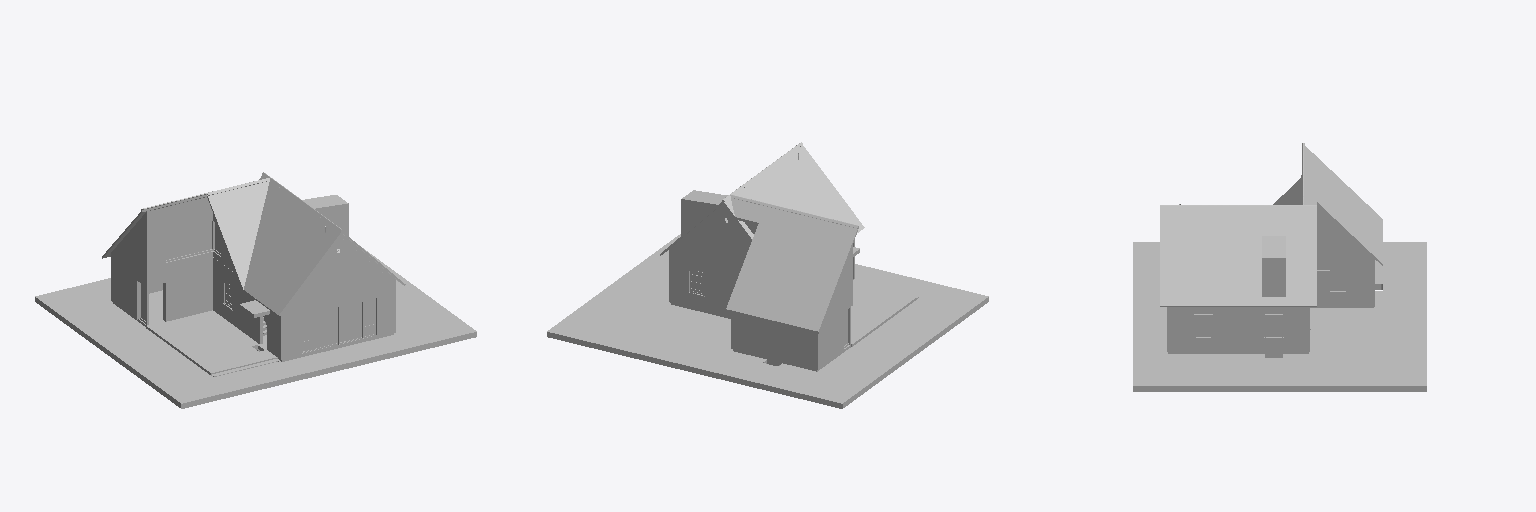
Rendered from Cabin2022b.obj.
3 views of the same model, side by side, from view 1: azimuth 30°, elevation 25°; view 2: azimuth 150°, elevation 25°; view 3: azimuth 270°, elevation 25° (orthographic).
Visible parts, largest first — view 1: UNITY_Bois_Blanc_Horizontal_Existant_2, UNITY_Gazon_Desature_Chemin_Pale, UNITY_Taule_4"_90deg, UNITY_Plancher_Bois_Gris_90deg, UNITY_Gris_Terre, Glass, UNITY_Blanc, Aluminex_Glass, UNITY_Aluminex_Frame, UNITY_Gris, UNITY_Crete; view 2: UNITY_Gazon_Desature_Chemin_Pale, UNITY_Taule_4"_90deg, UNITY_Bois_Blanc_Horizontal_Existant_2, UNITY_Gris_Terre, UNITY_Plancher_Bois_Gris_90deg, UNITY_Blanc, UNITY_Crete, UNITY_Gris; view 3: UNITY_Gazon_Desature_Chemin_Pale, UNITY_Taule_4"_90deg, UNITY_Bois_Blanc_Horizontal_Existant_2, UNITY_Blanc, UNITY_Gris_Terre, Glass, UNITY_Crete, UNITY_Aluminex_Frame.
Boxes of the visible parts, x1,y1,x2,y2 form: UNITY_Bois_Blanc_Horizontal_Existant_2: [111, 203, 392, 358]; UNITY_Gazon_Desature_Chemin_Pale: [35, 245, 476, 403]; UNITY_Taule_4"_90deg: [207, 175, 340, 314]; UNITY_Plancher_Bois_Gris_90deg: [147, 310, 276, 372]; UNITY_Gris_Terre: [35, 297, 476, 408]; Glass: [226, 285, 375, 351]; UNITY_Blanc: [111, 195, 395, 359]; Aluminex_Glass: [141, 222, 220, 320]; UNITY_Aluminex_Frame: [146, 221, 376, 376]; UNITY_Gris: [102, 194, 405, 315]; UNITY_Crete: [141, 172, 343, 231]; UNITY_Gazon_Desature_Chemin_Pale: [547, 234, 988, 403]; UNITY_Taule_4"_90deg: [724, 145, 864, 331]; UNITY_Bois_Blanc_Horizontal_Existant_2: [672, 204, 852, 369]; UNITY_Gris_Terre: [547, 297, 988, 408]; UNITY_Plancher_Bois_Gris_90deg: [851, 282, 916, 343]; UNITY_Blanc: [669, 190, 854, 302]; UNITY_Crete: [722, 142, 858, 228]; UNITY_Gris: [660, 201, 858, 333]; UNITY_Gazon_Desature_Chemin_Pale: [1133, 242, 1426, 385]; UNITY_Taule_4"_90deg: [1160, 146, 1382, 305]; UNITY_Bois_Blanc_Horizontal_Existant_2: [1171, 212, 1374, 351]; UNITY_Blanc: [1167, 205, 1374, 351]; UNITY_Gris_Terre: [1133, 386, 1426, 391]; Glass: [1197, 239, 1343, 335]; UNITY_Crete: [1160, 143, 1316, 207]; UNITY_Aluminex_Frame: [1196, 238, 1345, 336].
Size of the model in its own units: 63.36 by 26.09 by 54.4.